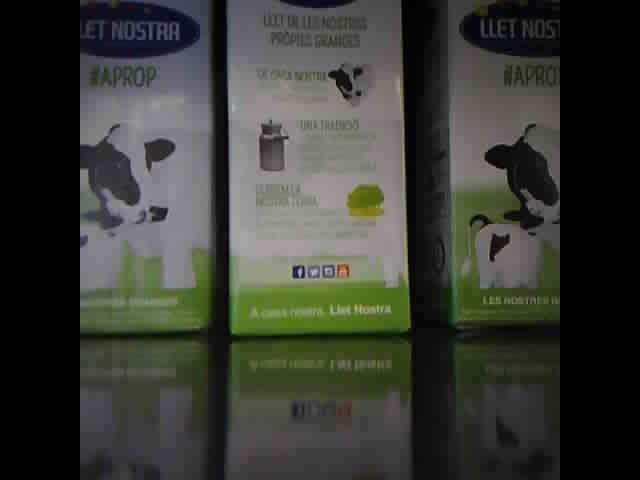leche: (226, 1, 406, 336), (81, 3, 217, 332), (420, 4, 559, 325)
